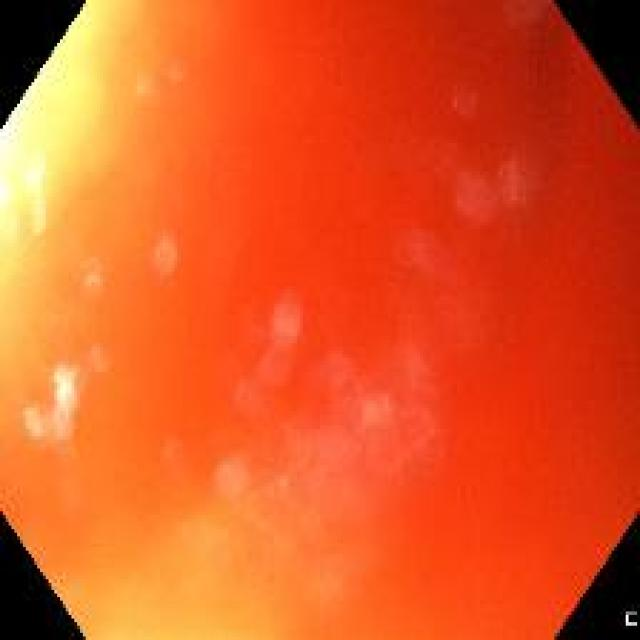color misalignment: (0, 1, 639, 638), (0, 3, 636, 635)
